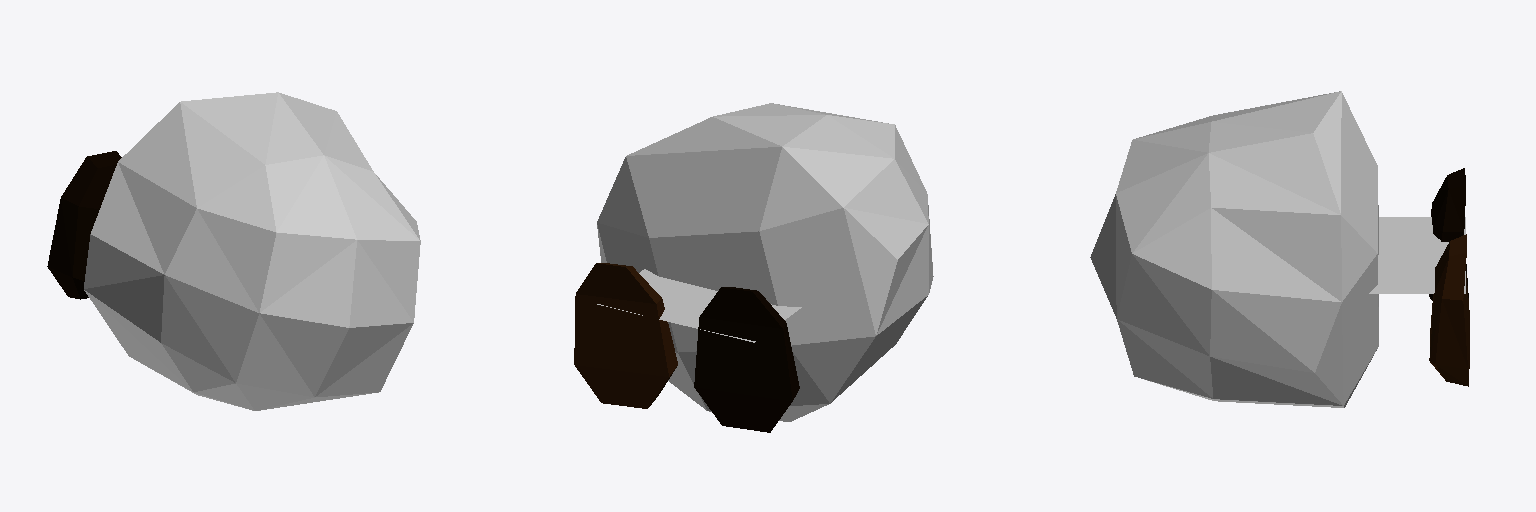
File: goomba.obj
The picture shows the model from 3 angles: view 1: azimuth 30°, elevation 25°; view 2: azimuth 150°, elevation 25°; view 3: azimuth 270°, elevation 25°; orthographic projection.
Parts seen in each view (by area): view 1: goomba; view 2: goomba; view 3: goomba.
Part boxes in pixels (x1,y1,x2,y2): goomba: (47,92,420,410); goomba: (574,103,933,432); goomba: (1090,91,1469,407).
Bounding box in the file's own units: 25.29 × 23.38 × 28.14.